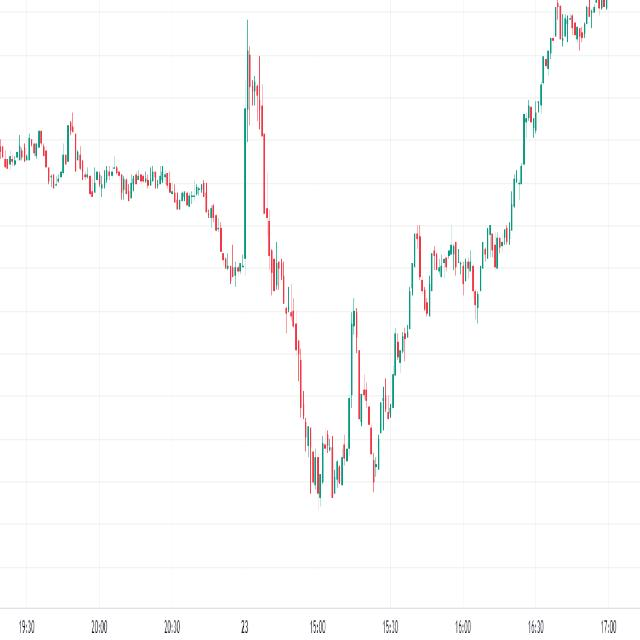Inverse-Head-Shoulders: (353, 304, 400, 498)
